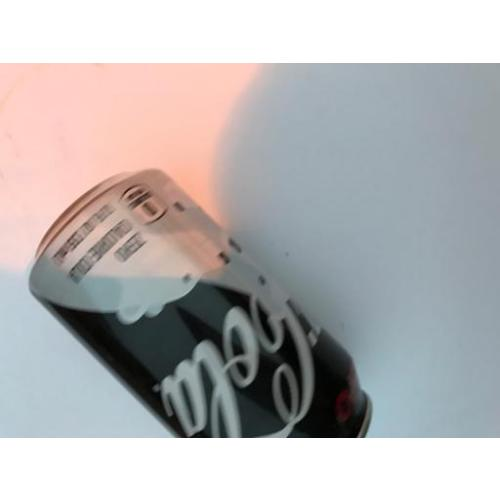metal: (30, 168, 370, 436)
